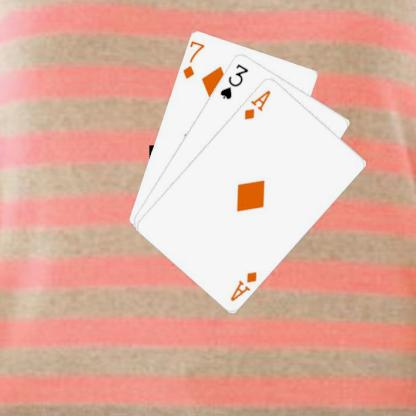3S: (217, 61, 250, 100)
7D: (180, 38, 206, 80)
AD: (242, 87, 272, 121), (228, 269, 258, 302)
